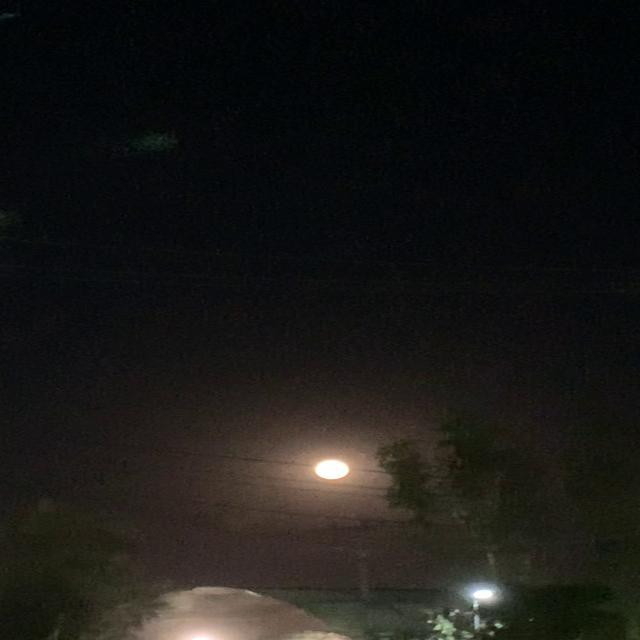moon: (308, 458, 362, 484)
